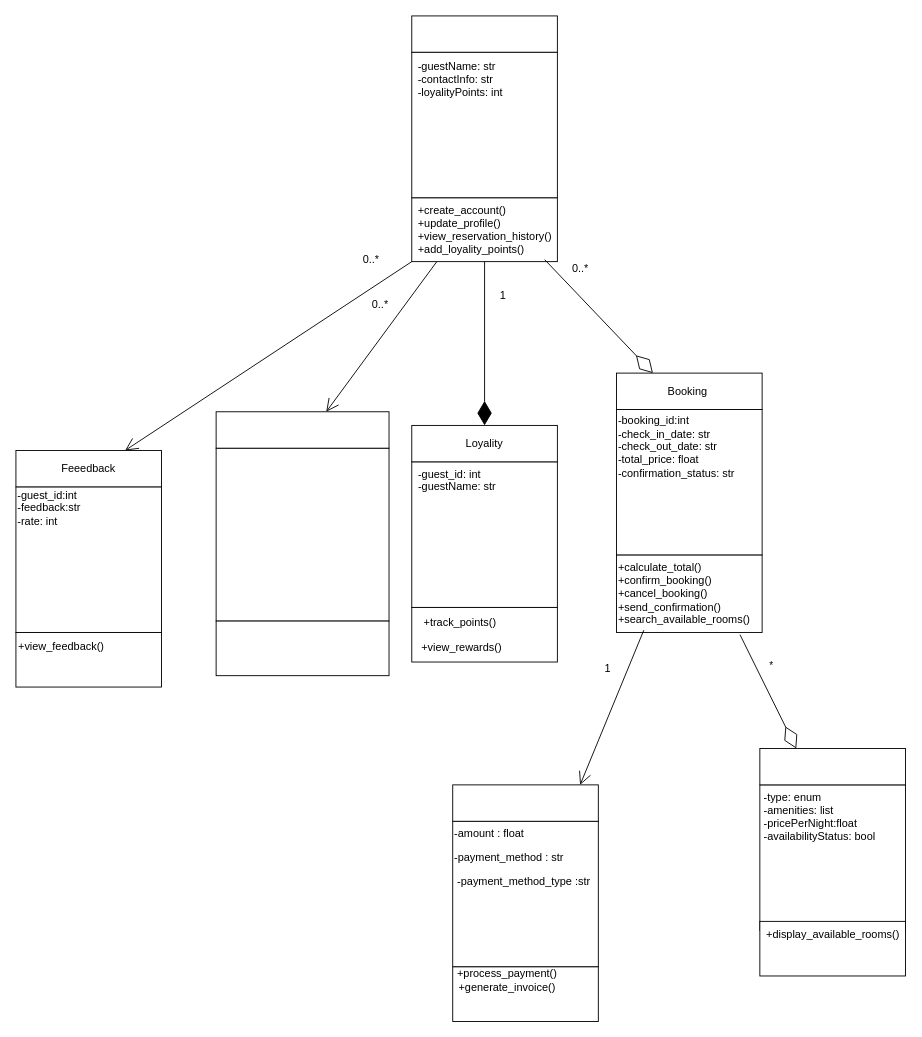
Image size: 922x1037. Some labels were removed from this diagram. Each missing label, with the centre of its shape:
"+request_additional_services()" goes at point (302, 648).
"-guest_id:int -service_type:enum" goes at point (302, 534).
"Guest" goes at point (484, 33).
"GuestServices" goes at point (302, 429).
"Payment" goes at point (525, 802).
"Room" goes at point (832, 766).
